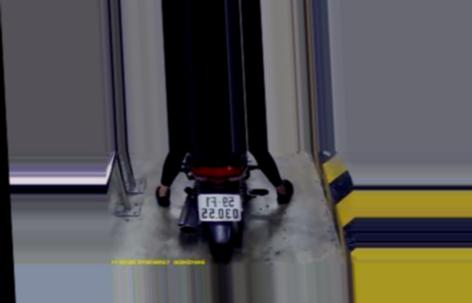License_Plate: (198, 190, 245, 223)
